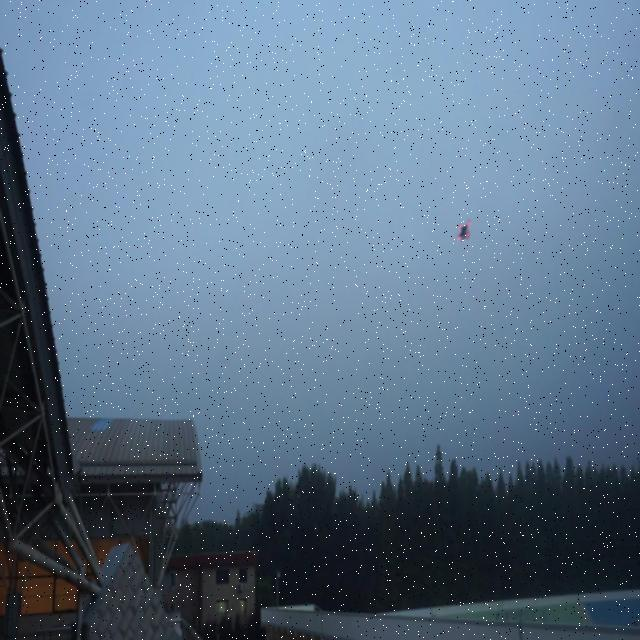UAV: (457, 221, 471, 242)
